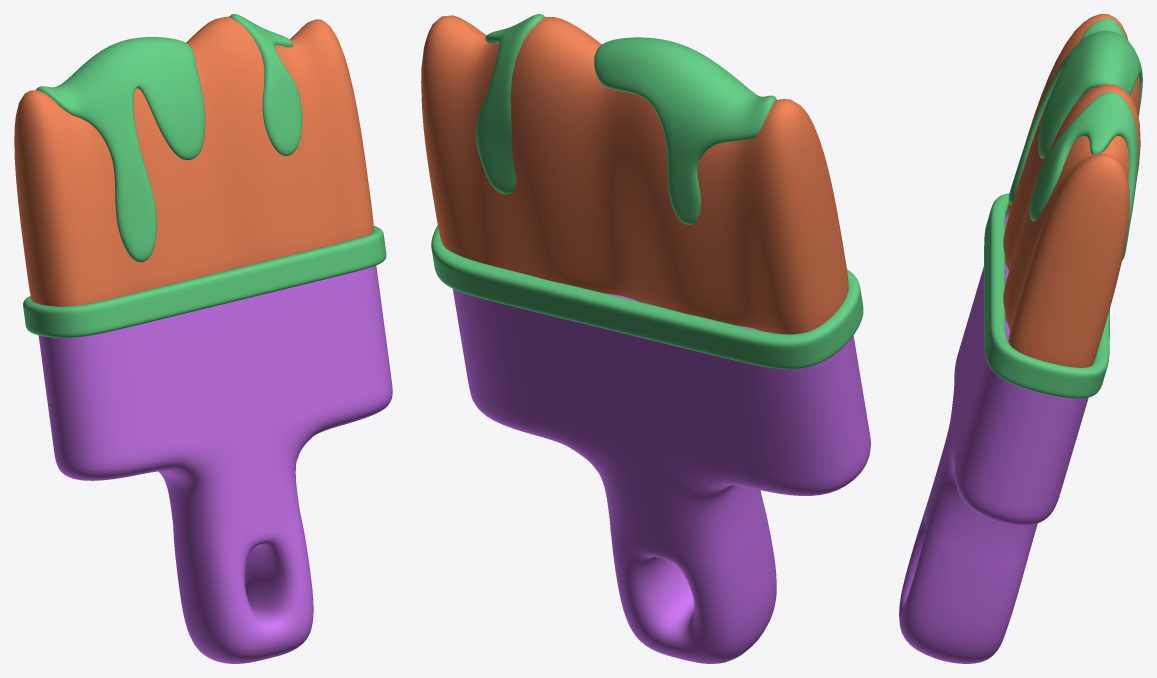
File: 3. Paintbrush.glb
3 views of the same model, side by side, from view 1: azimuth 30°, elevation 25°; view 2: azimuth 150°, elevation 25°; view 3: azimuth 270°, elevation 25° (orthographic). The views are drawn at different scales.
Parts seen in each view (by area): view 1: Paintbrush, Cube.002, Cube.004, Cube.001; view 2: Cube.002, Paintbrush, Cube.004, Cube.001; view 3: Paintbrush, Cube.002, Cube.004, Cube.001.
Part boxes in pixels (box(x1,y1,x2,y2)): Paintbrush: box(38, 265, 392, 663); Cube.002: box(14, 16, 373, 306); Cube.004: box(36, 14, 302, 262); Cube.001: box(23, 226, 386, 337); Cube.002: box(421, 15, 848, 334); Paintbrush: box(452, 289, 870, 663); Cube.004: box(476, 14, 776, 224); Cube.001: box(431, 225, 863, 369); Paintbrush: box(899, 214, 1088, 663); Cube.002: box(1003, 14, 1140, 367); Cube.004: box(1008, 18, 1142, 260); Cube.001: box(984, 193, 1109, 398).
Size of the model in its own units: 0.6378 by 1.03 by 0.384.
